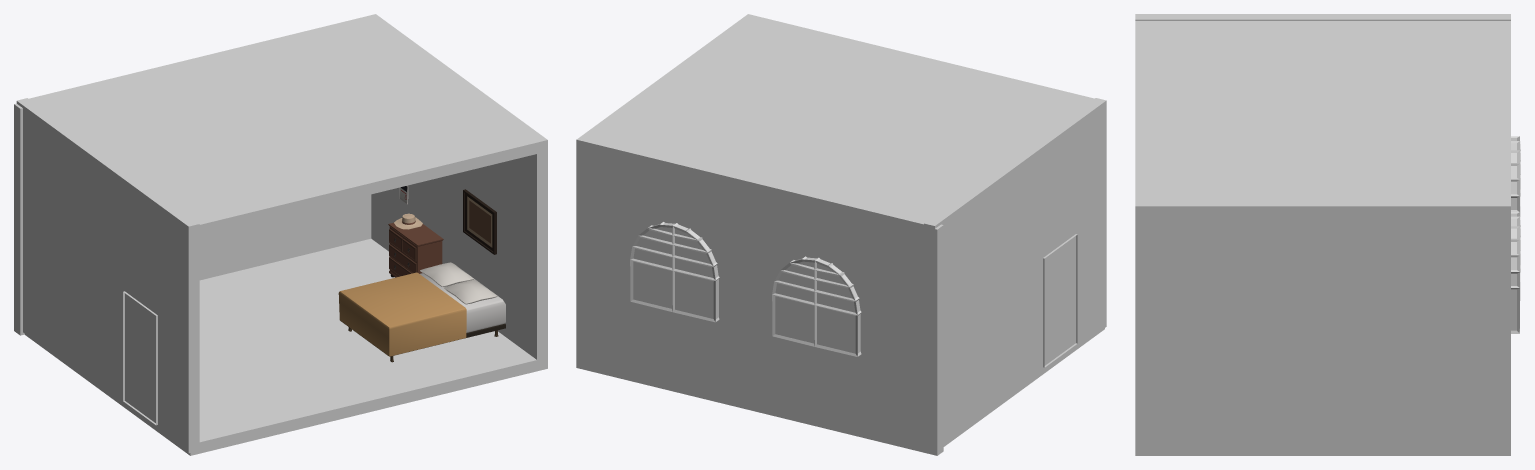
The model's file is CenaQuarto.fbx.
3 renders of one model, left to right at view 1: azimuth 30°, elevation 25°; view 2: azimuth 150°, elevation 25°; view 3: azimuth 270°, elevation 25°, orthographic. The views are drawn at different scales.
Parts seen in each view (by area): view 1: Teto.001, Parede Esquerda.001, Chao.001, Parede Direita.001, Cama.001, Parede Fundo.001, Tapete.001, Comoda.001, Quadro.001, Porta.003; view 2: Parede Fundo.001, Teto.001, Parede Esquerda.001, Janela.001, Chao.001, Aro da janela.001, Parede Direita.001, Porta.003; view 3: Parede Direita.001, Teto.001, Parede Esquerda.001, Aro da janela.001, Janela.001.
Boxes of the visible parts, x1,y1,x2,y2 form: Teto.001: [29, 14, 547, 237]; Parede Esquerda.001: [16, 98, 199, 453]; Chao.001: [24, 238, 536, 455]; Parede Direita.001: [371, 151, 547, 371]; Cama.001: [338, 262, 505, 362]; Parede Fundo.001: [14, 103, 371, 335]; Tapete.001: [243, 319, 404, 393]; Comoda.001: [388, 222, 443, 277]; Quadro.001: [463, 189, 496, 254]; Porta.003: [123, 291, 157, 425]; Parede Fundo.001: [580, 142, 943, 455]; Teto.001: [576, 14, 1094, 236]; Parede Esquerda.001: [924, 98, 1106, 450]; Janela.001: [633, 223, 860, 353]; Chao.001: [576, 328, 1104, 454]; Aro da janela.001: [630, 222, 861, 356]; Parede Direita.001: [576, 141, 580, 357]; Porta.003: [1043, 234, 1077, 367]; Parede Direita.001: [1135, 208, 1510, 455]; Teto.001: [1135, 21, 1510, 208]; Parede Esquerda.001: [1135, 14, 1510, 20]; Aro da janela.001: [1511, 136, 1520, 333]; Janela.001: [1511, 138, 1516, 330].
Size of the model in its own units: 583 by 354 by 493.
